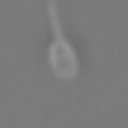normal: (41, 1, 66, 39)
